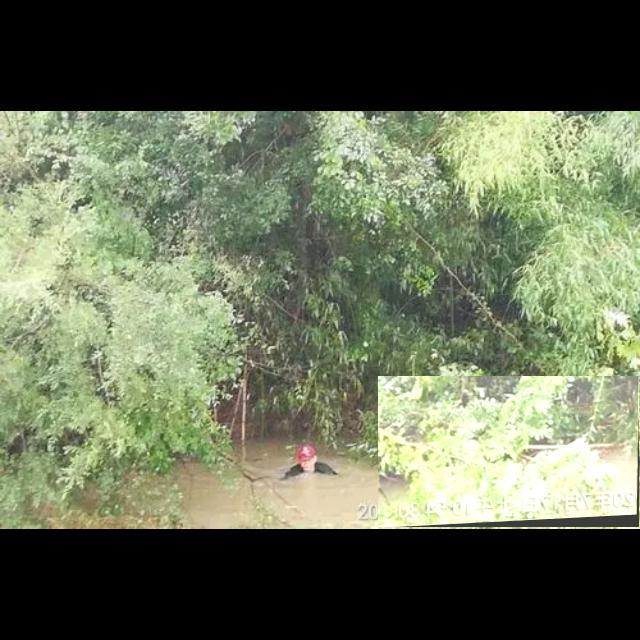fallen_tree: (378, 376, 640, 528)
